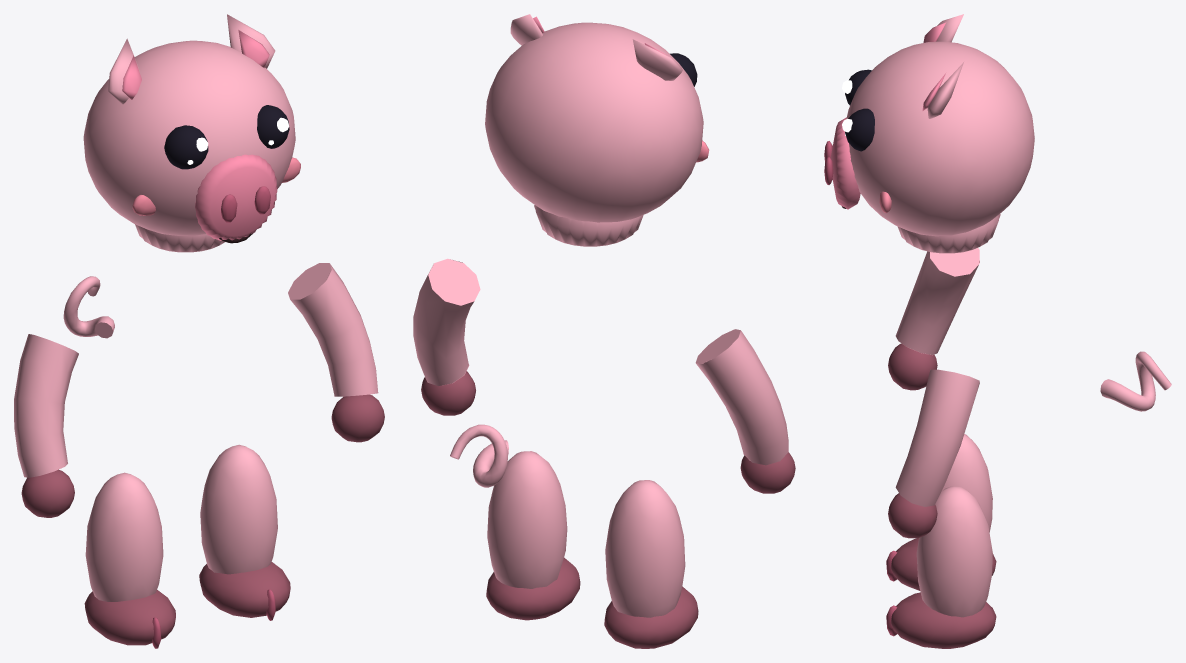
Rendered from tb_dyr_gris.glb.
3 renders of one model, left to right at view 1: azimuth 30°, elevation 25°; view 2: azimuth 150°, elevation 25°; view 3: azimuth 270°, elevation 25°, orthographic. The views are drawn at different scales.
Parts seen in each view (by area): view 1: hode, bein_hf, bein_vf, vinge_v, vinge_h, hale; view 2: hode, bein_vf, bein_hf, vinge_v, vinge_h, hale; view 3: hode, bein_hf, vinge_h, vinge_v, bein_vf, hale.
Boxes of the visible parts, x1,y1,x2,y2 form: hode: (83,14,300,252); bein_hf: (199,444,290,620); bein_vf: (84,472,175,648); vinge_v: (14,334,78,517); vinge_h: (288,263,384,442); hale: (63,276,114,338); hode: (485,14,709,246); bein_vf: (604,480,698,648); bein_hf: (486,451,580,620); vinge_v: (695,329,795,493); vinge_h: (413,258,480,415); hale: (450,424,508,487); hode: (824,14,1034,253); bein_hf: (886,486,996,648); vinge_h: (888,369,979,538); vinge_v: (888,248,979,390); bein_vf: (886,434,996,590); hale: (1100,351,1171,411).
Size of the model in its own units: 1.06 by 1.67 by 0.9108.
